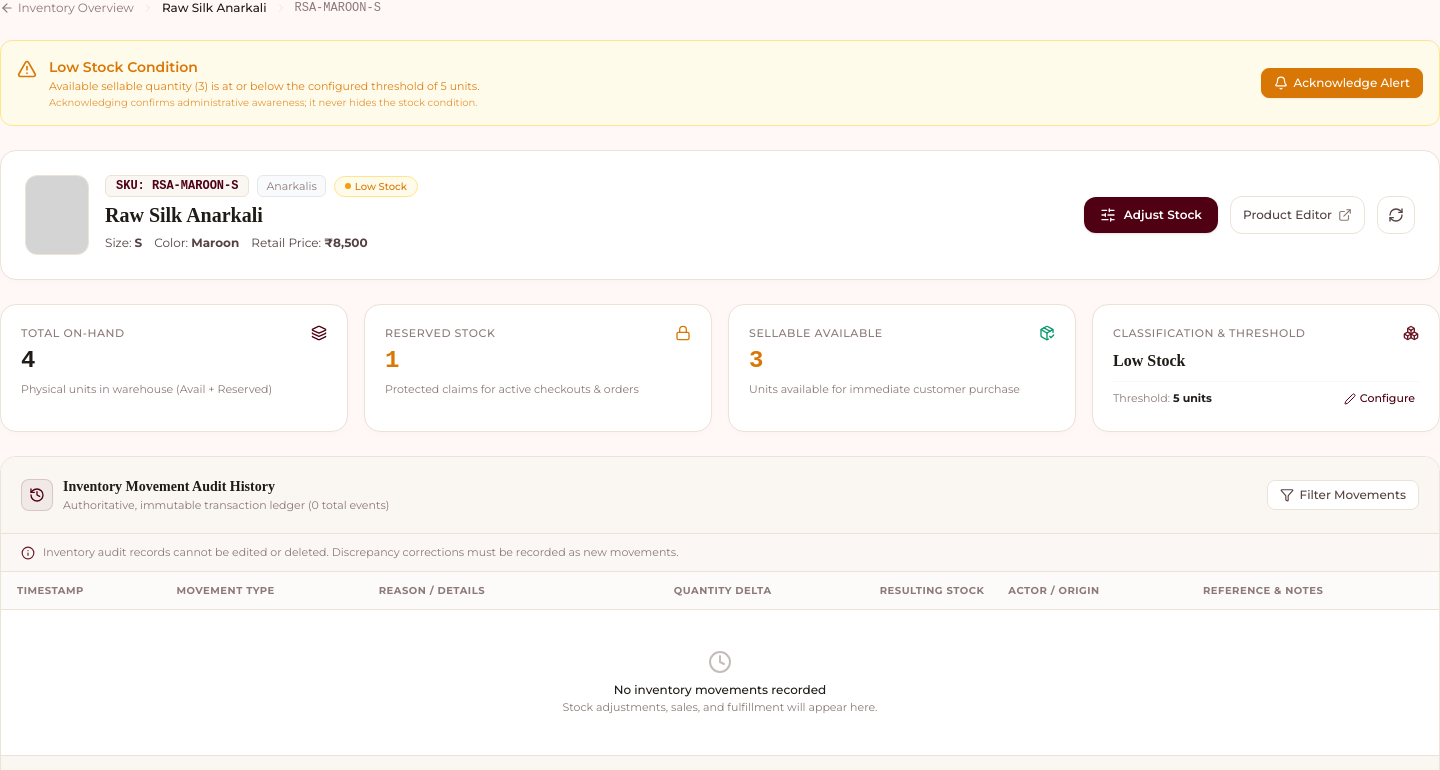
Scenario: Sprint A3.4 — Admin Inventory Monitoring & Low-Stock Alerts › AdminInventoryDetailClient Alert & Threshold Management › supports threshold configuration with validation
Note: Click Configure button
Click the button with test id "edit-threshold-button". click: (1379, 399)
box: x1=1340 y1=386 x2=1419 y2=411
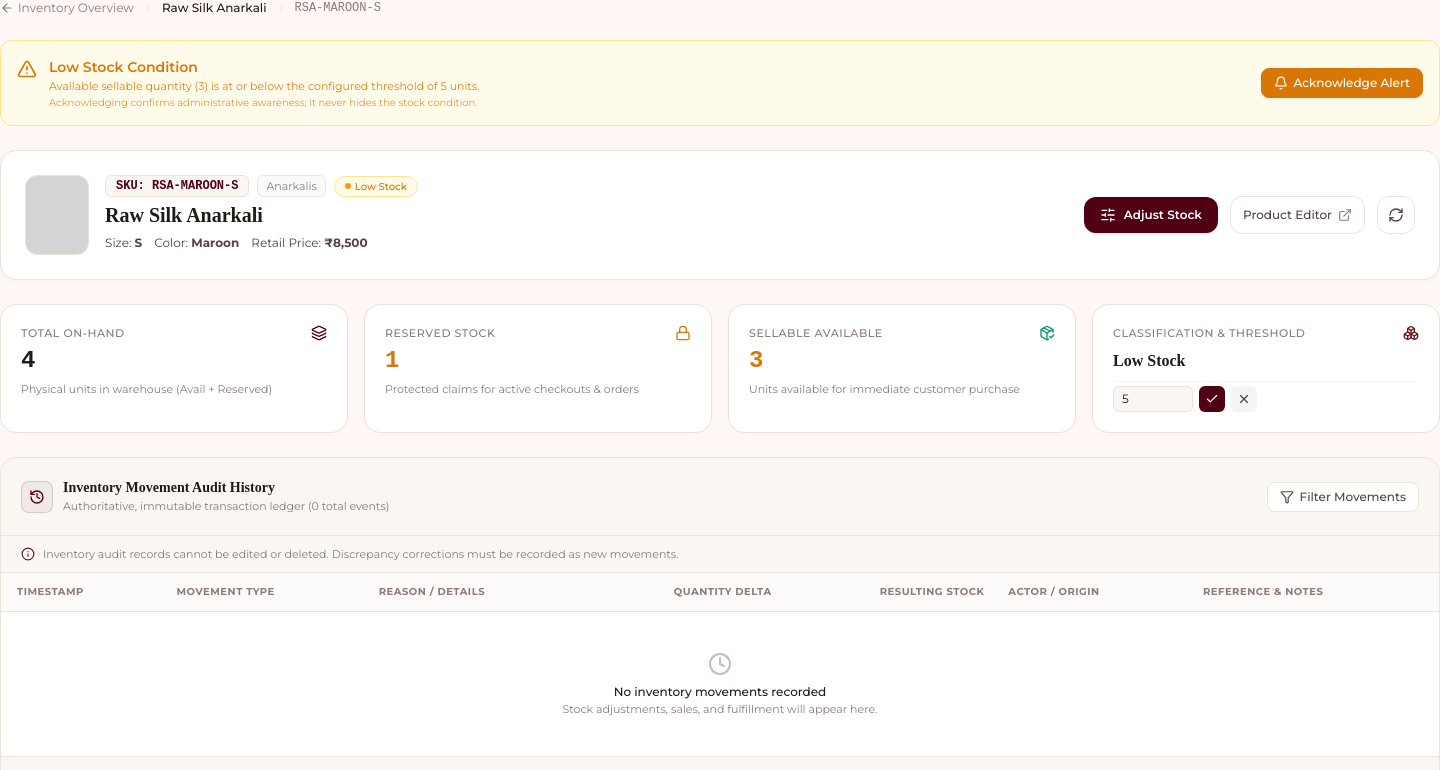
Check: the number field with test id "threshold-input" is shown
Note: Test negative threshold rejection
Replace the text in the number field with test id "threshold-input" with "-3". click: (1153, 400)
box: x1=1113 y1=386 x2=1193 y2=412
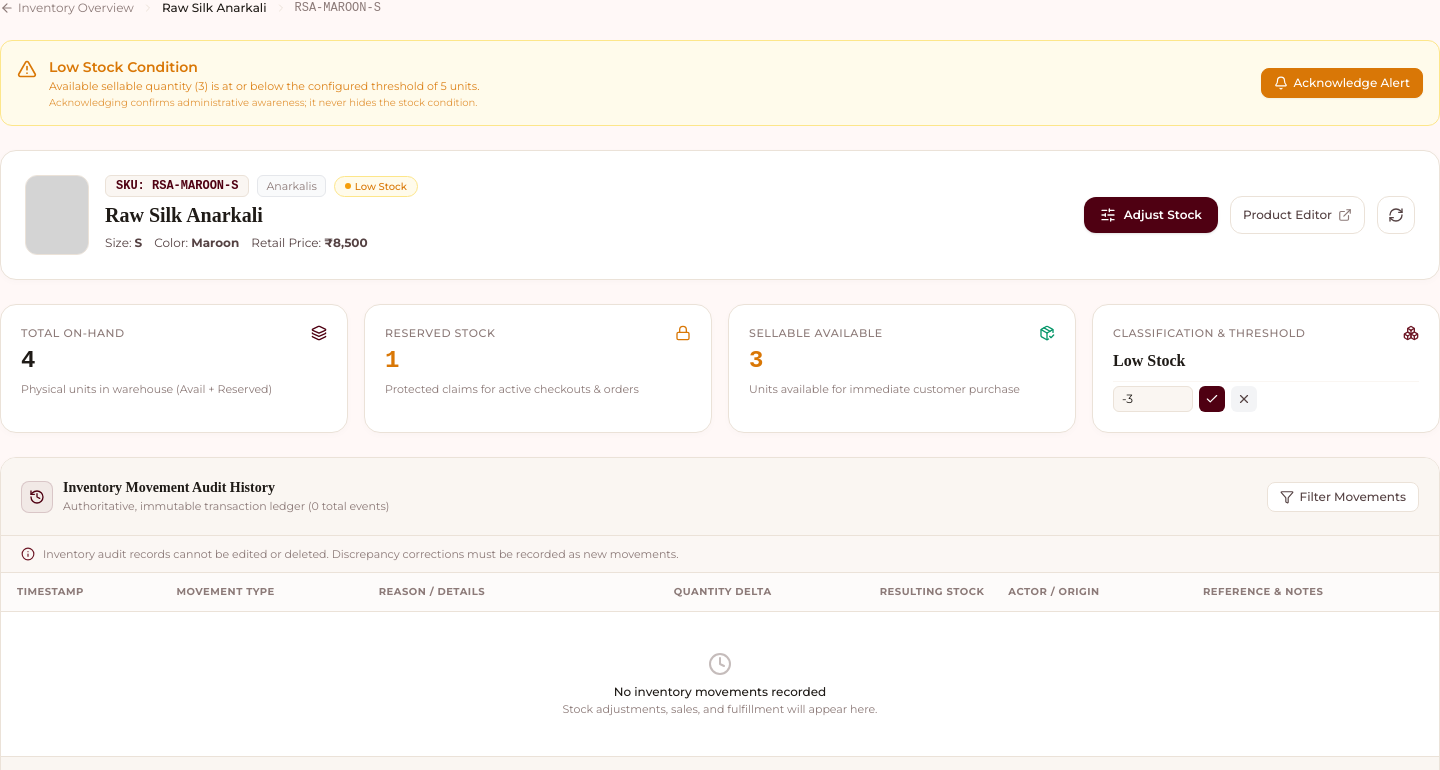
Click the button with test id "save-threshold-button". click: (1212, 400)
box: x1=1199 y1=386 x2=1225 y2=412
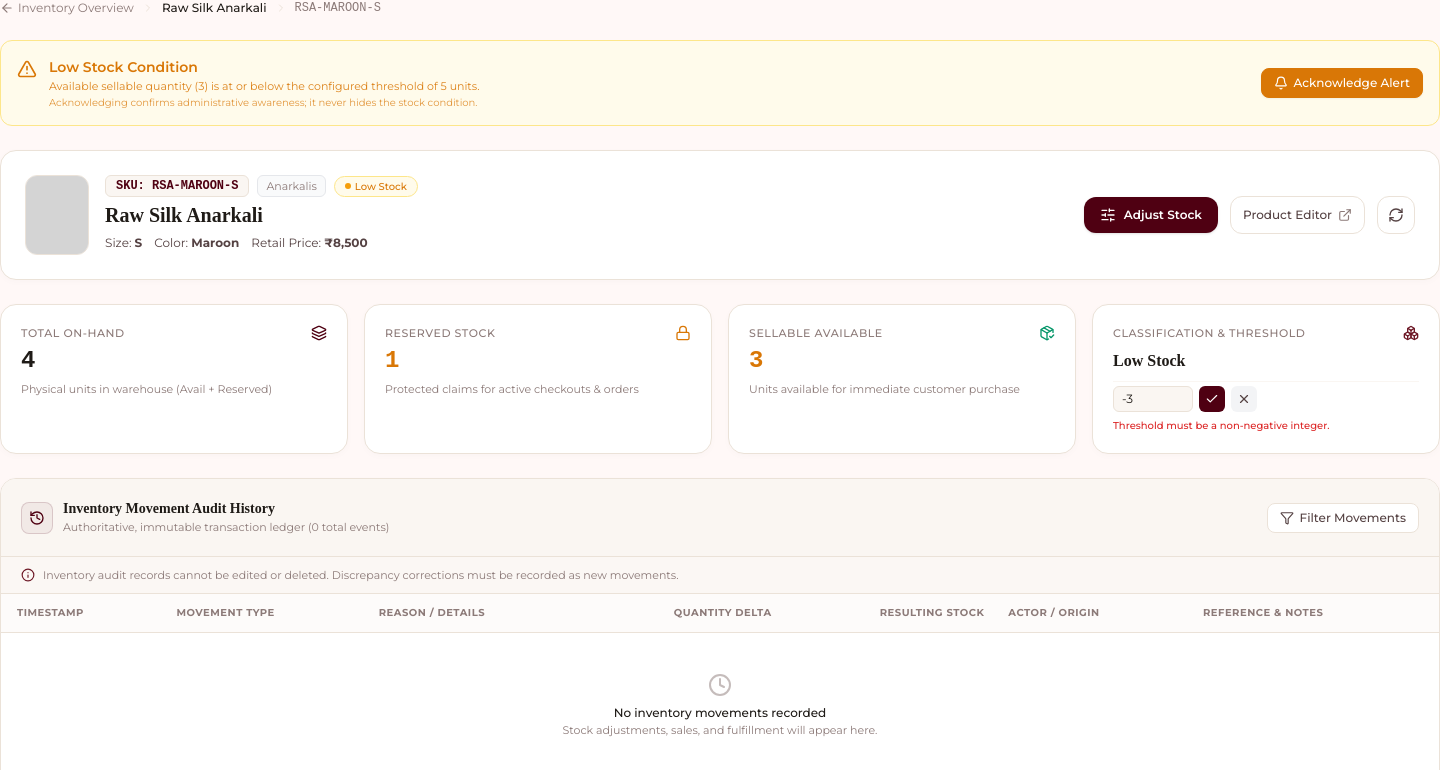
Check: the text "Threshold must be a non-negative integer." is shown, box x1=1113 y1=420 x2=1330 y2=432
Note: Test valid threshold update
Replace the text in the number field with test id "threshold-input" with "2". click: (1153, 400)
box: x1=1113 y1=386 x2=1193 y2=412
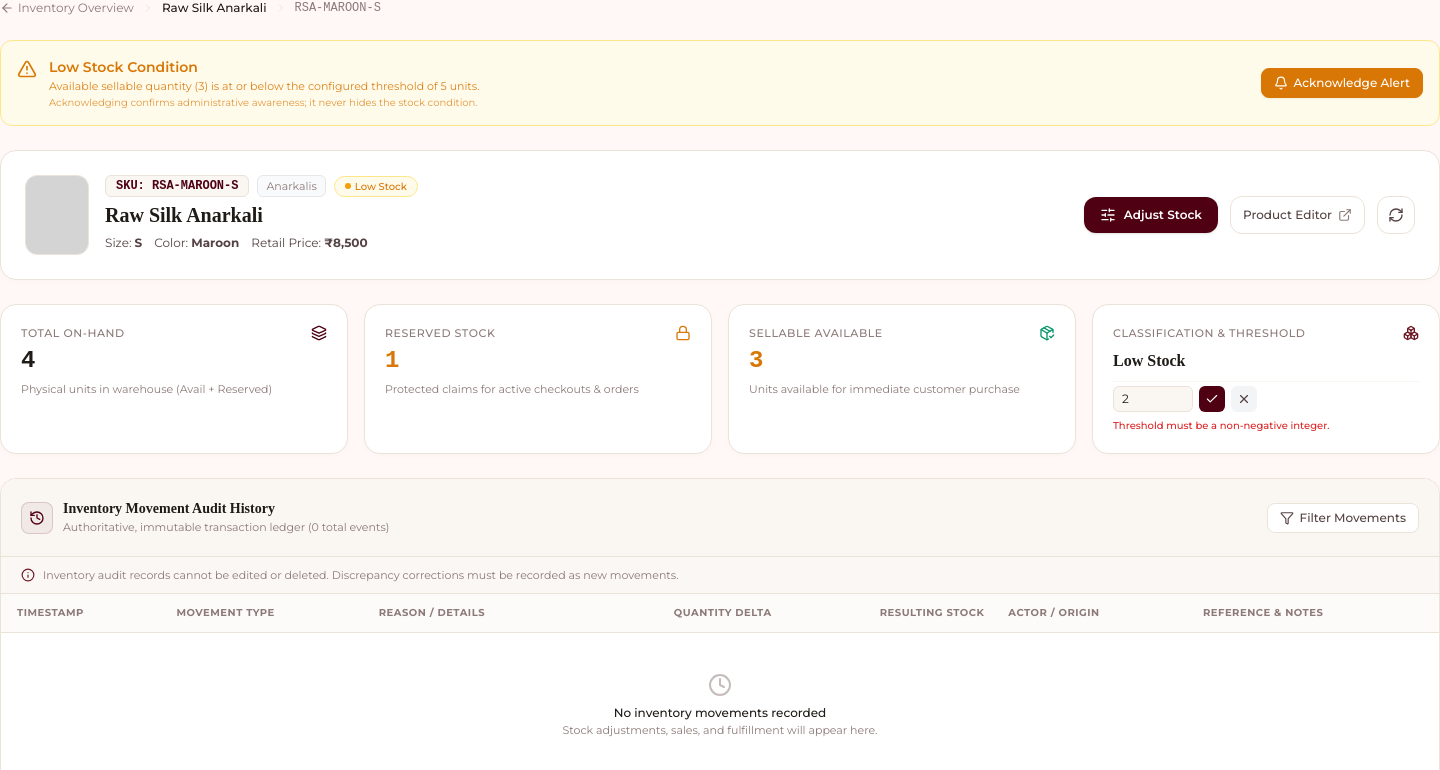
Click the button with test id "save-threshold-button". click: (1212, 400)
box: x1=1199 y1=386 x2=1225 y2=412
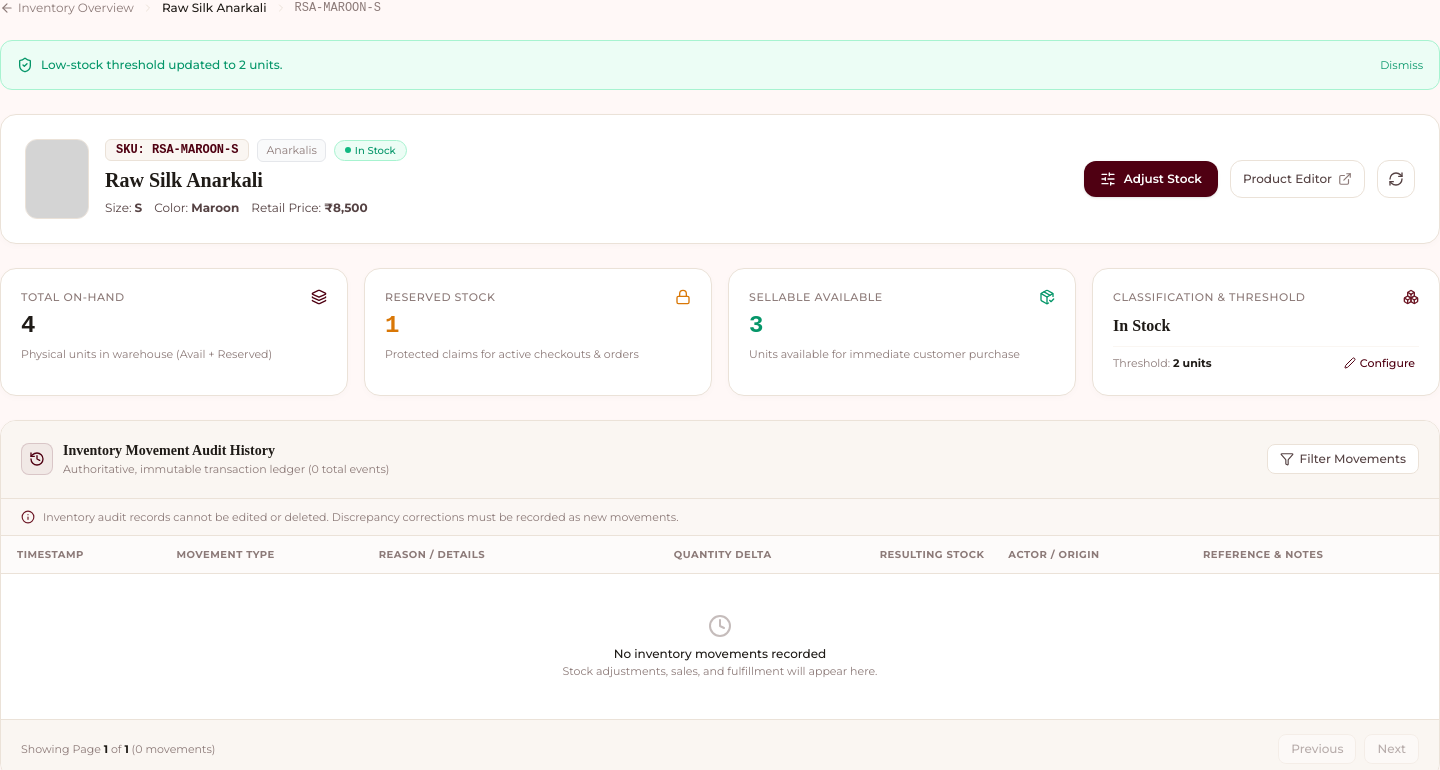
Check: the text "Low-stock threshold updated to 2 units." is shown, box x1=41 y1=57 x2=282 y2=73
